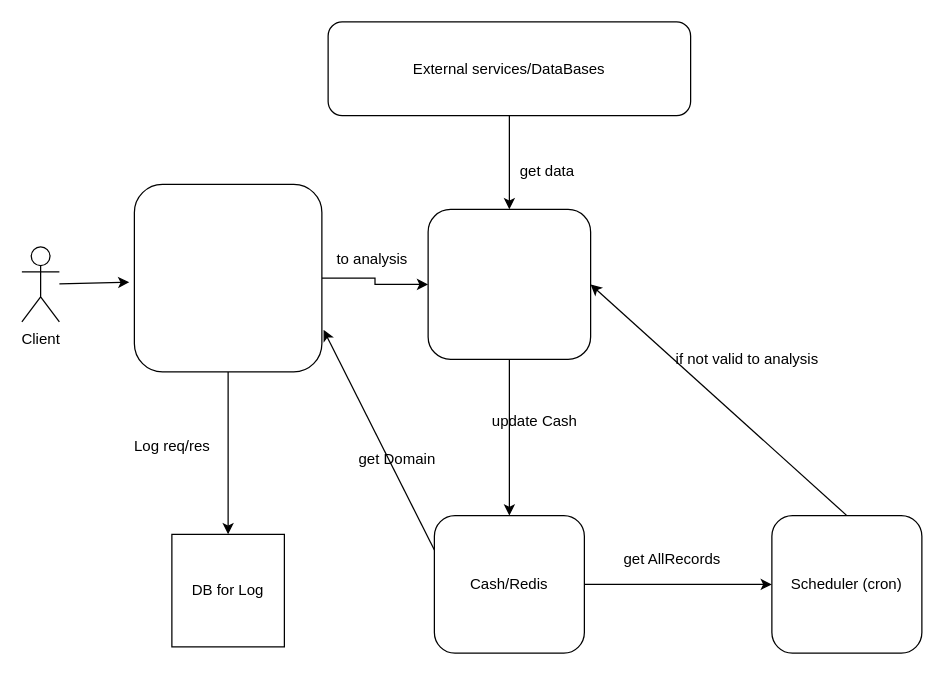
The diagram is 944 pixels wide and 675 high, and some of its shapes have lost their labels. Here are the shapes that lost their labels. From the top down, the centre of each, then its label:
pixel 227 277: WebServer
pixel 509 283: Analysis Service
